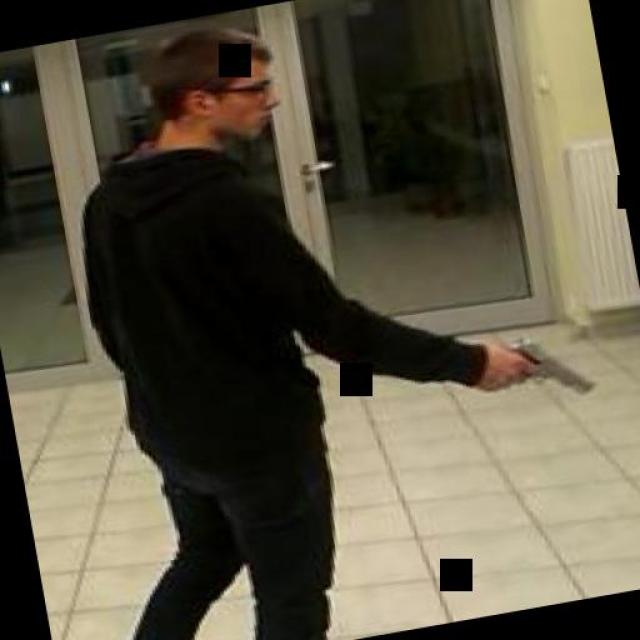gun: (474, 318, 594, 412)
